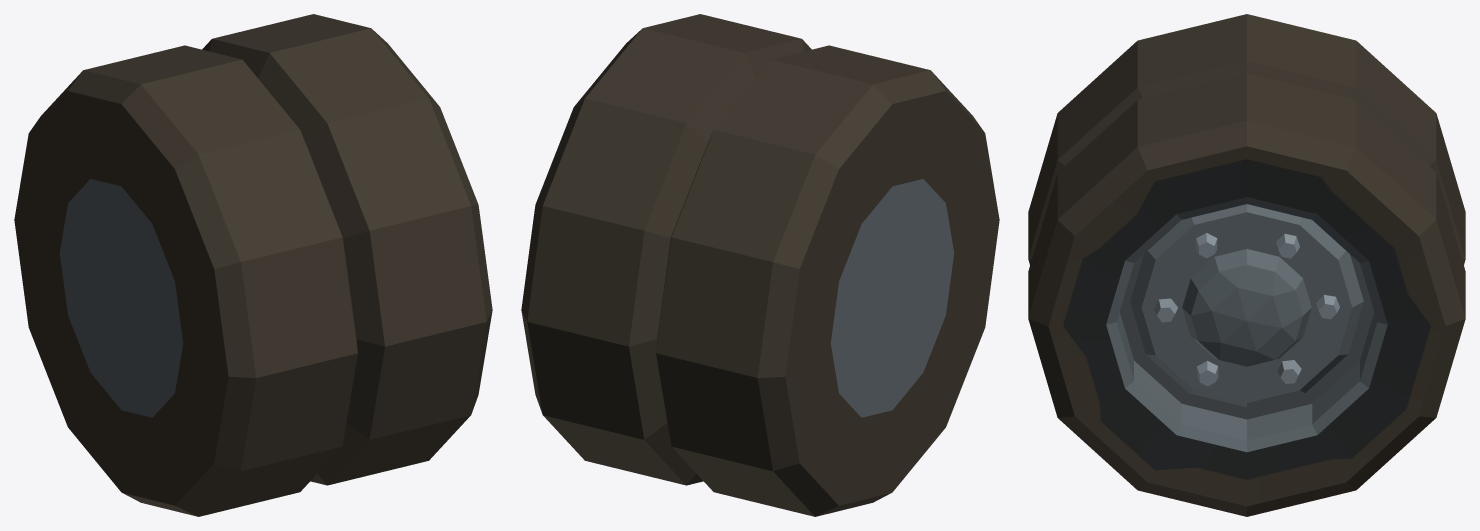
The model's file is SM_Veh_BigRig_Trailer_Wheel_fl.obj.
3 views of the same model, side by side, from view 1: azimuth 30°, elevation 25°; view 2: azimuth 150°, elevation 25°; view 3: azimuth 270°, elevation 25° (orthographic). The views are drawn at different scales.
Visible parts, largest first — view 1: SM_Veh_BigRig_Trailer_Wheel_fl_0; view 2: SM_Veh_BigRig_Trailer_Wheel_fl_0; view 3: SM_Veh_BigRig_Trailer_Wheel_fl_0.
Part boxes in pixels (bbox=[...]): SM_Veh_BigRig_Trailer_Wheel_fl_0: bbox=[14, 14, 492, 516]; SM_Veh_BigRig_Trailer_Wheel_fl_0: bbox=[521, 14, 999, 516]; SM_Veh_BigRig_Trailer_Wheel_fl_0: bbox=[1028, 14, 1465, 516].
Size of the model in its own units: 0.7407 by 1.11 by 1.11.
Materials: 1 (1 with a texture image).
